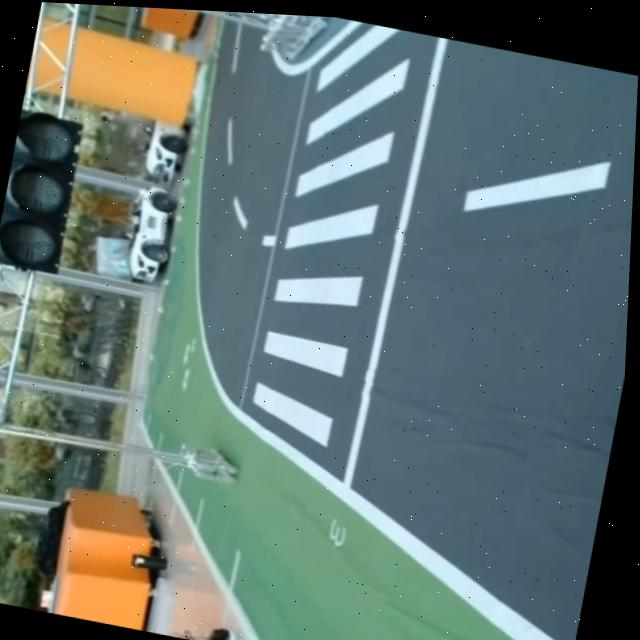traffic-light: (0, 101, 95, 282)
